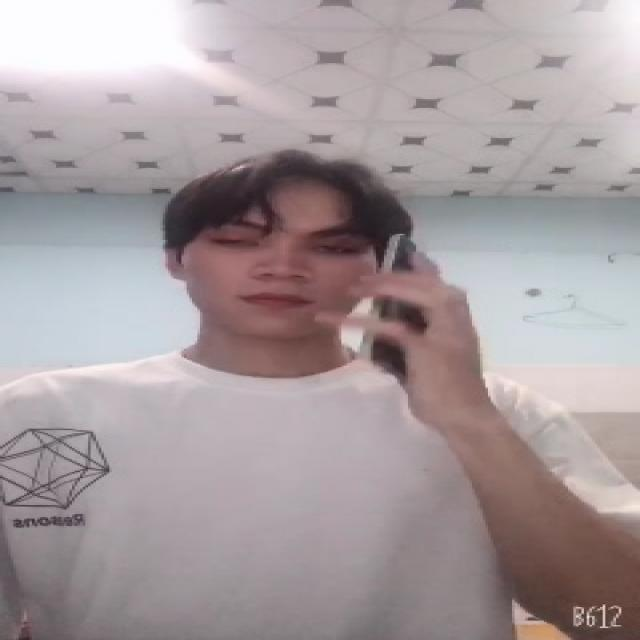Phone: (356, 231, 441, 380)
